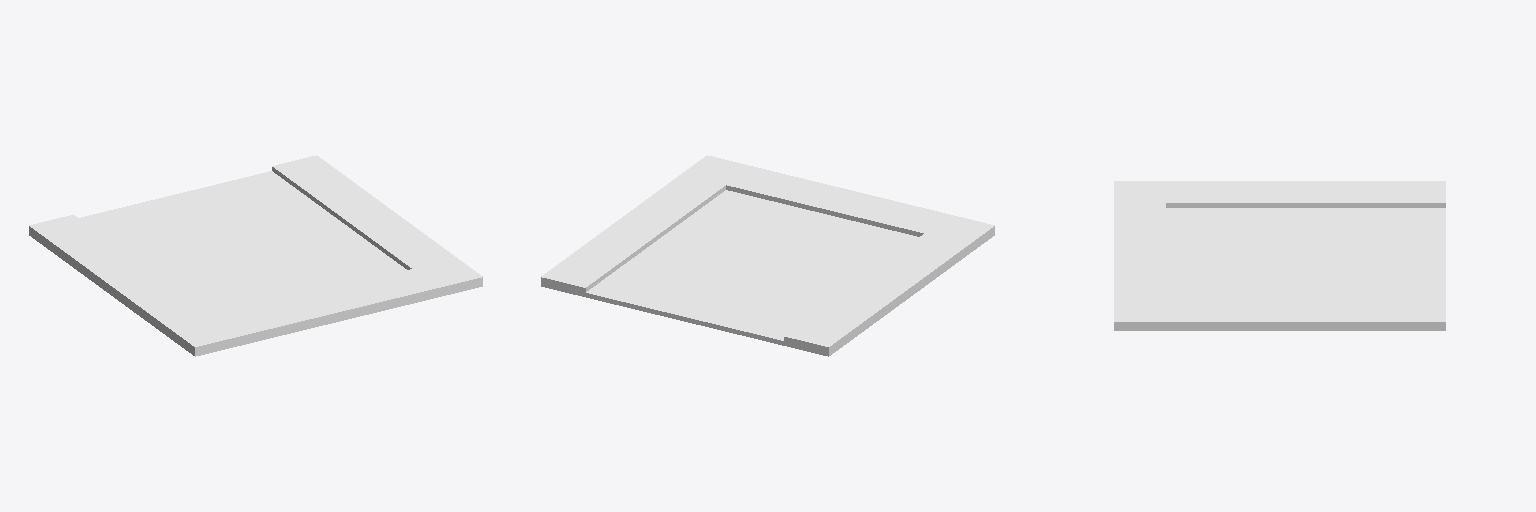
The model's file is RoadEnd90.obj.
The picture shows the model from 3 angles: view 1: azimuth 30°, elevation 25°; view 2: azimuth 150°, elevation 25°; view 3: azimuth 270°, elevation 25°; orthographic projection.
Parts seen in each view (by area): view 1: object 1; view 2: object 1; view 3: object 1.
Boxes of the visible parts, x1=… form: object 1: x1=29, y1=155, x2=482, y2=356; object 1: x1=541, y1=155, x2=994, y2=356; object 1: x1=1114, y1=181, x2=1445, y2=330.
Size of the model in its own units: 6.4 by 0.2 by 6.4.